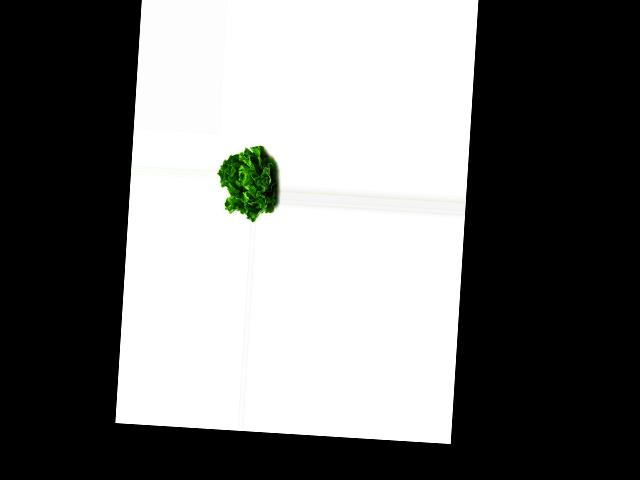lettuce: (215, 145, 281, 222)
